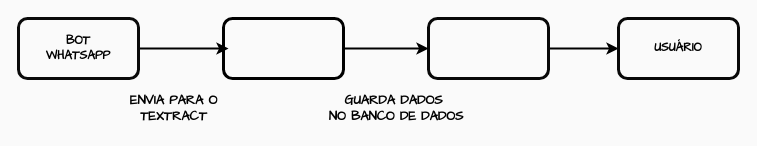
Image size: 757x146. Some labels were removed from this diagram. The shapes that lost their labels are listed below. From the top down, each one's centre as x and y in pixels, then its label:
[283,48]: AWS TEXTRACT
[488,48]: AWS DYNAMODB
